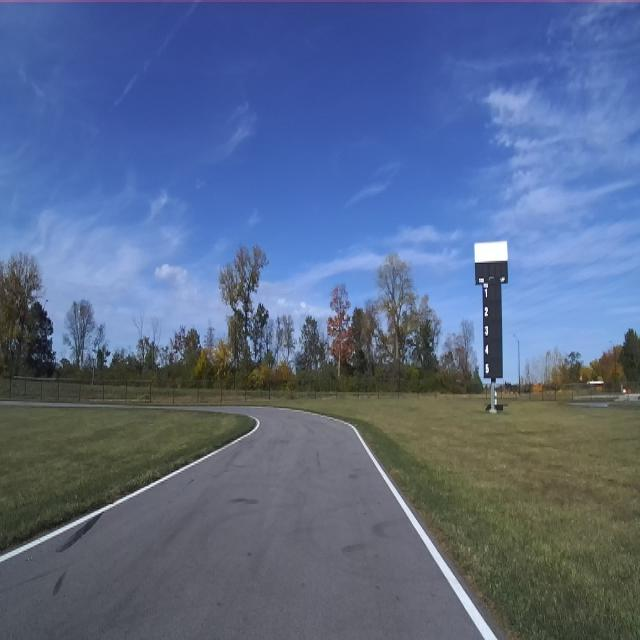white-line: (293, 409, 497, 639), (0, 416, 259, 564), (0, 523, 77, 563), (92, 493, 136, 516)
